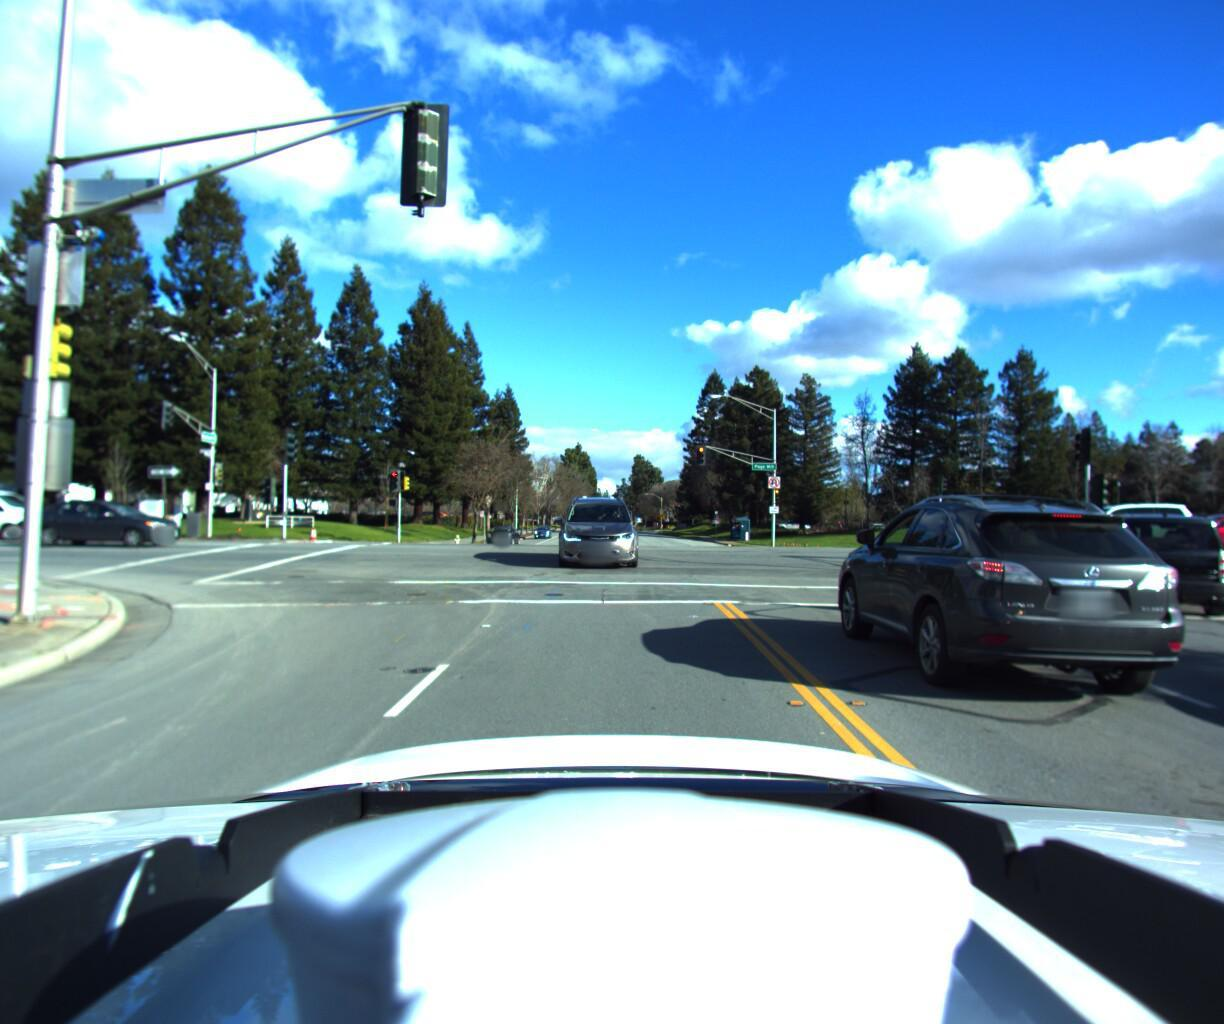car: (818, 476, 1206, 721), (1068, 499, 1224, 618), (8, 494, 189, 551), (1035, 496, 1199, 552), (547, 484, 639, 565), (0, 475, 61, 541), (1151, 509, 1224, 550), (481, 522, 517, 547), (0, 481, 7, 556), (530, 522, 552, 538)
